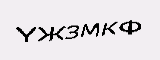Ж: (36, 25, 65, 43)
З: (63, 25, 80, 41)
К: (100, 21, 118, 37)
М: (79, 21, 100, 38)
Ф: (119, 19, 142, 37)
Ү: (15, 25, 37, 43)
